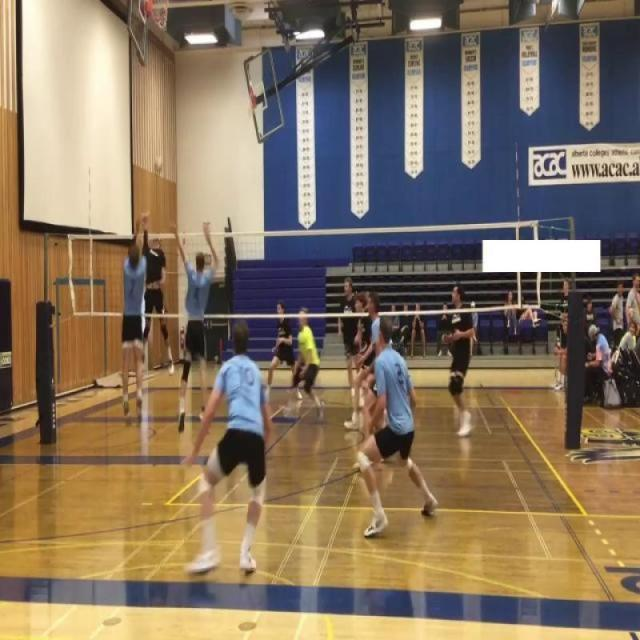volleyball: (154, 156, 163, 172)
